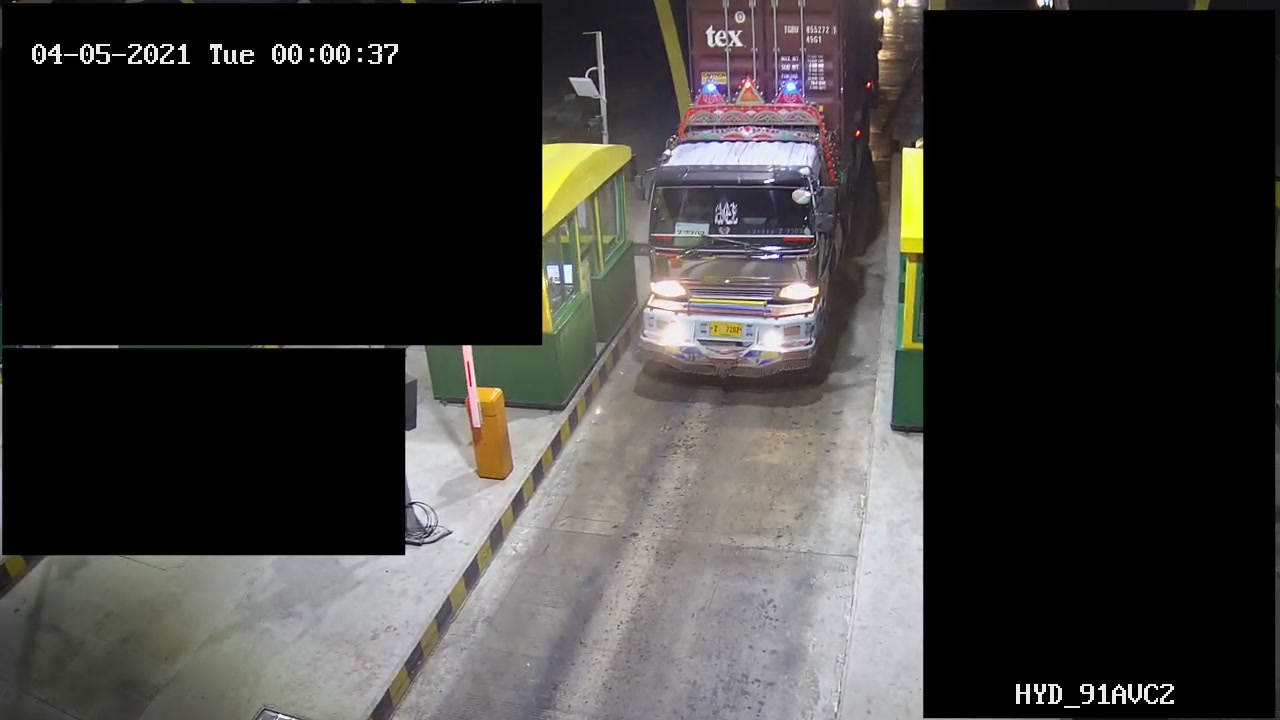F6: (630, 1, 890, 399)
